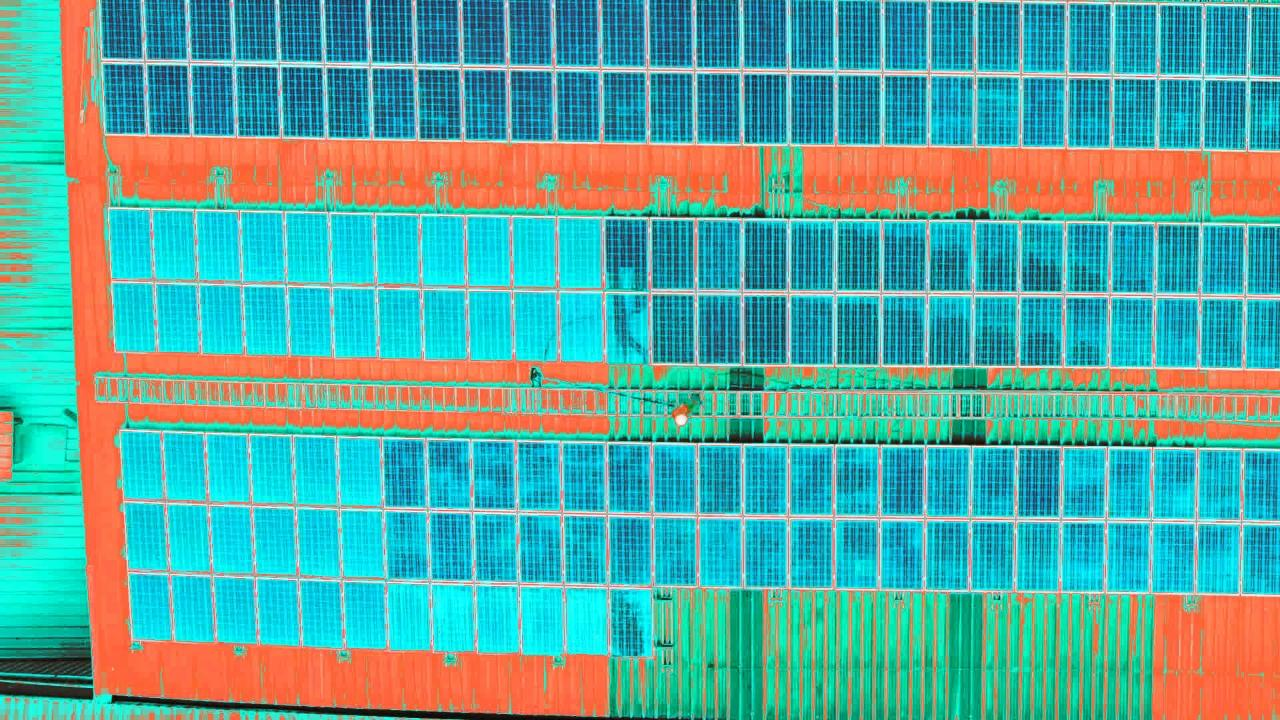clean: (99, 2, 1280, 152), (385, 434, 1280, 589), (651, 228, 1280, 373), (606, 584, 656, 656)
dirty: (108, 204, 650, 368), (121, 428, 392, 649)
